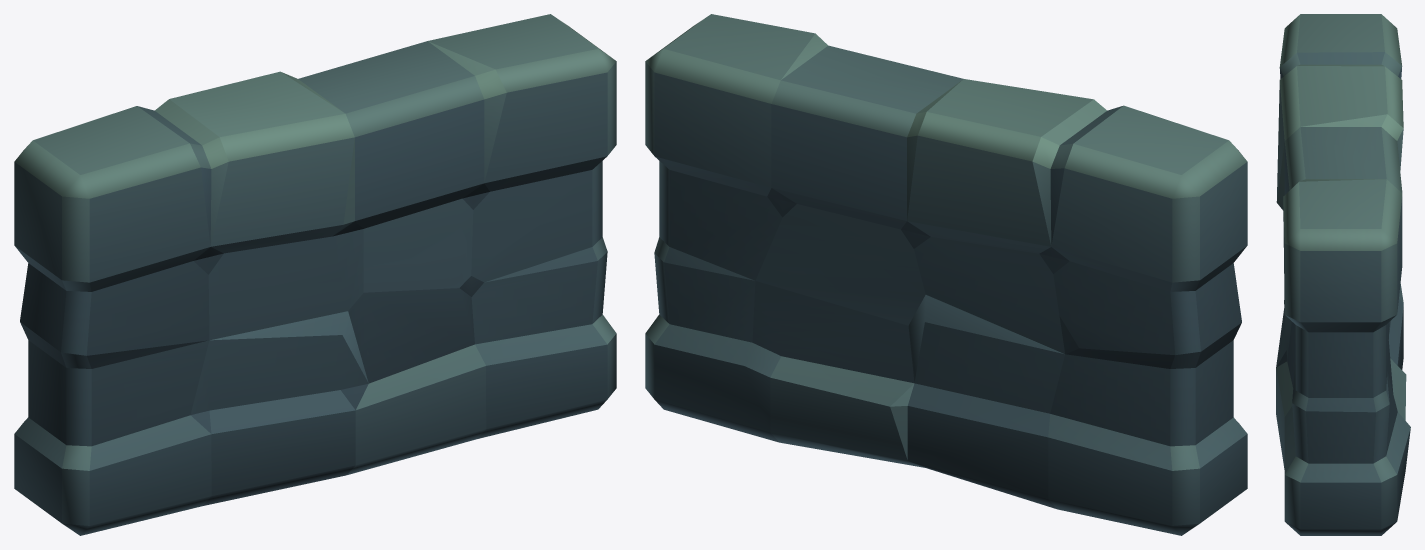
The model's file is wall_element_LOD_setup.fbx.
3 renders of one model, left to right at view 1: azimuth 30°, elevation 25°; view 2: azimuth 150°, elevation 25°; view 3: azimuth 270°, elevation 25°, orthographic. The views are drawn at different scales.
Visible parts, largest first — view 1: wall_element_LOD0; view 2: wall_element_LOD0; view 3: wall_element_LOD0.
Part boxes in pixels (box(x1,y1,x2,y2)): wall_element_LOD0: box(14, 14, 616, 535); wall_element_LOD0: box(645, 14, 1247, 535); wall_element_LOD0: box(1276, 14, 1410, 535).
Size of what is drawn, in the model's own units: 207 by 131 by 51.2.
